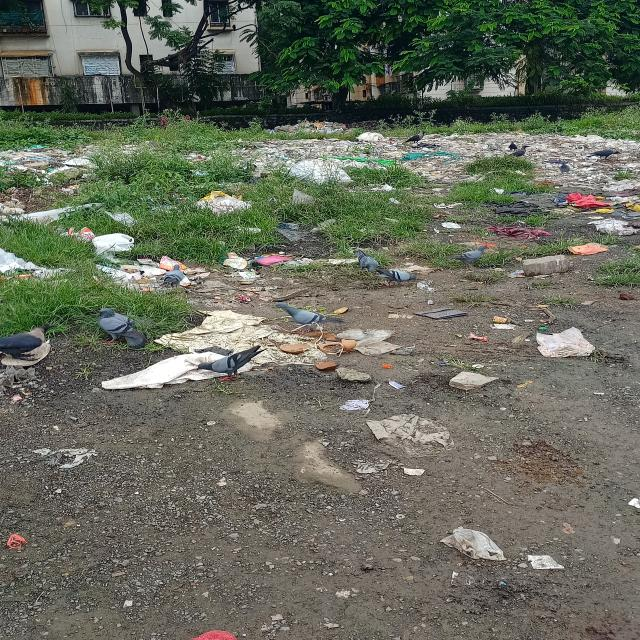garbage: (90, 300, 388, 390), (241, 131, 640, 179), (6, 228, 292, 287), (495, 180, 640, 254), (193, 186, 320, 226), (1, 147, 100, 180), (274, 121, 344, 137)
